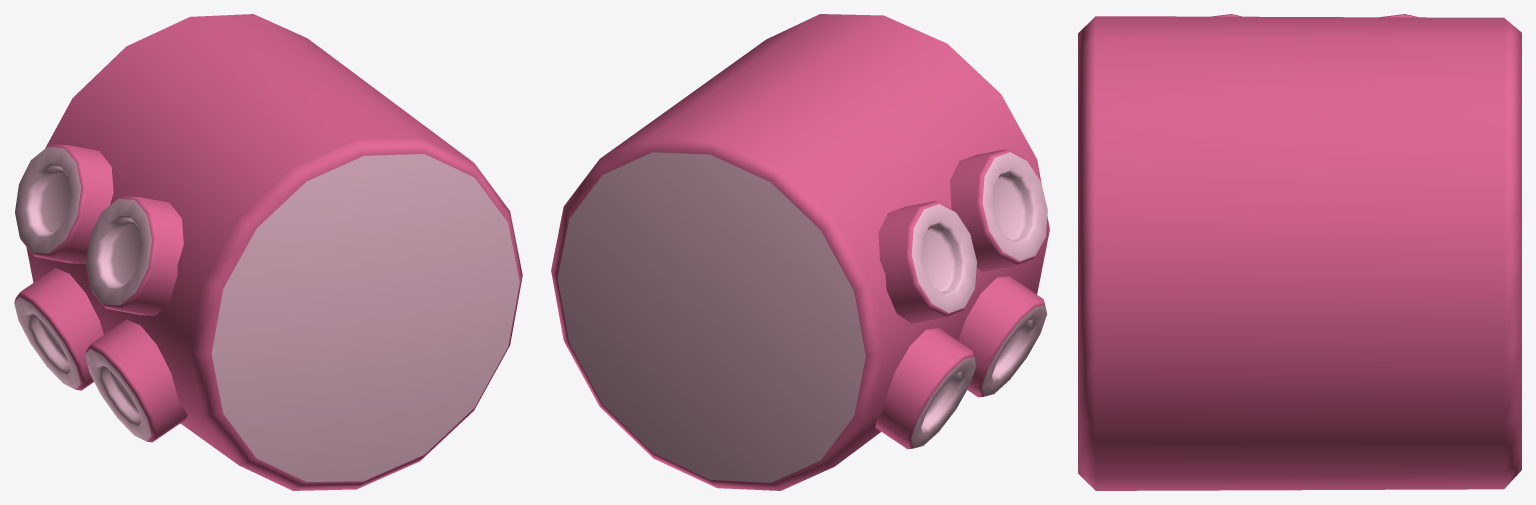
File: Octopus_Tentacles_1_Slice_2.fbx
3 renders of one model, left to right at view 1: azimuth 30°, elevation 25°; view 2: azimuth 150°, elevation 25°; view 3: azimuth 270°, elevation 25°, orthographic. The views are drawn at different scales.
Visible parts, largest first — view 1: Octopus_Tentacles_1_Slice_2; view 2: Octopus_Tentacles_1_Slice_2; view 3: Octopus_Tentacles_1_Slice_2.
Boxes of the visible parts, x1=… form: Octopus_Tentacles_1_Slice_2: x1=14, y1=14, x2=522, y2=490; Octopus_Tentacles_1_Slice_2: x1=551, y1=14, x2=1049, y2=490; Octopus_Tentacles_1_Slice_2: x1=1078, y1=14, x2=1521, y2=490.
Size of the model in its own units: 10.27 by 9.33 by 8.73.
